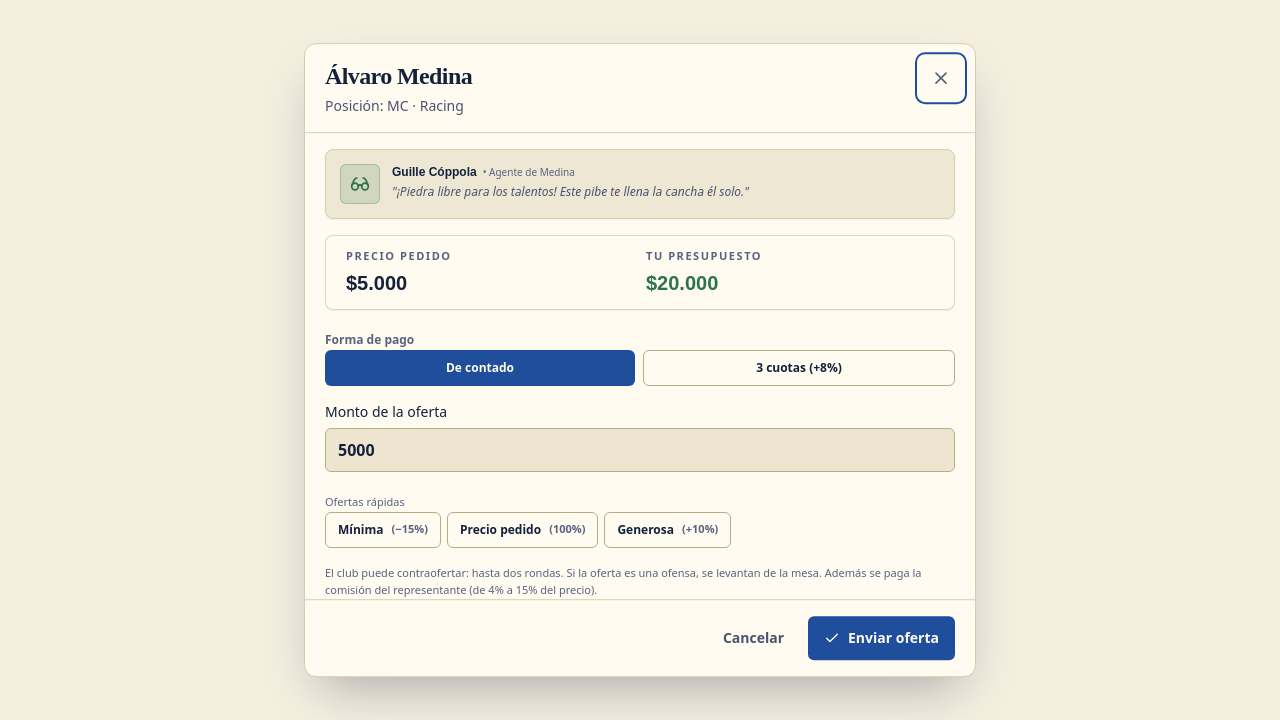
Test: negociación del fichaje › una oferta ofensiva cierra la mesa hasta la próxima ventana
Replace the text in the number field labelled "Monto de la oferta" with "500". click: (640, 450)
box: x1=325 y1=428 x2=955 y2=472
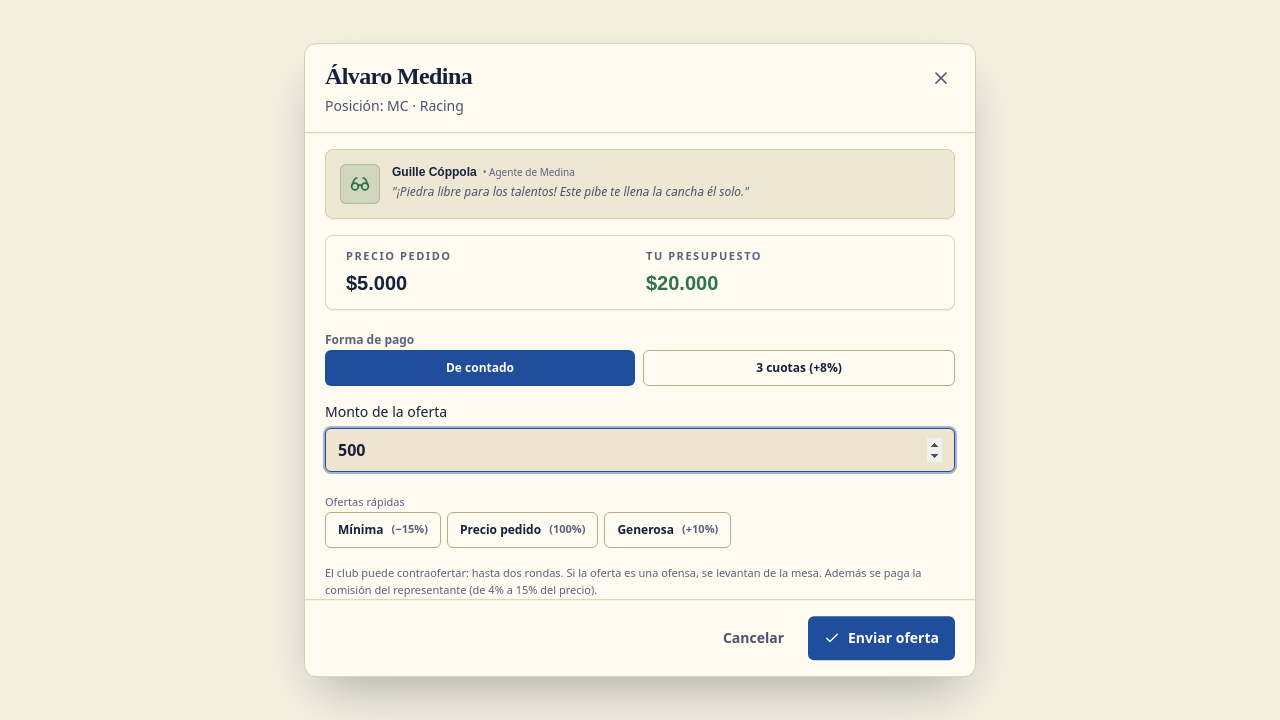
Click the button "Enviar oferta". click: (882, 638)
box: x1=808 y1=616 x2=955 y2=660
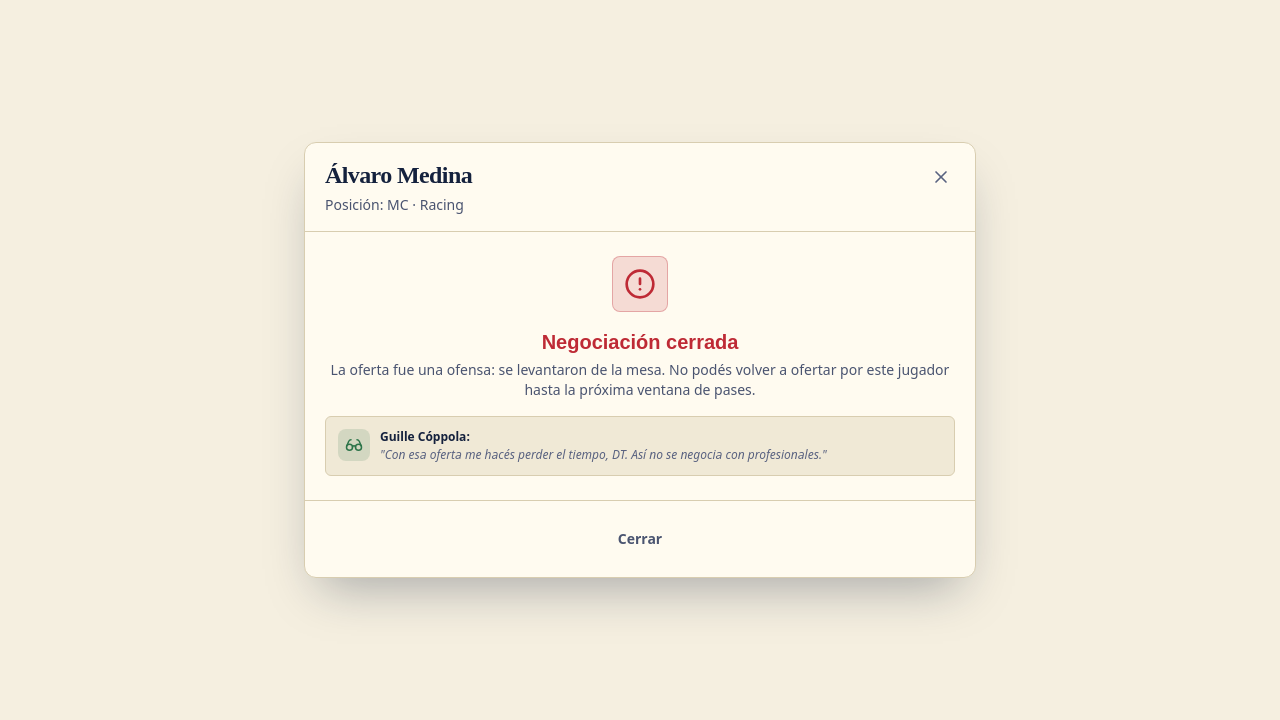
Now the text "Negociación cerrada" is shown, box x1=542 y1=331 x2=738 y2=353
Now the text "próxima ventana de pases" is shown, box x1=524 y1=360 x2=949 y2=399
